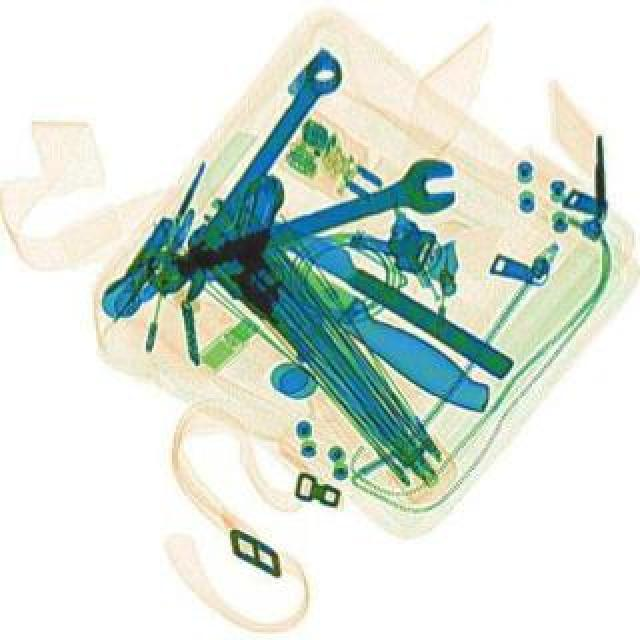gun: (178, 166, 386, 362)
knife: (190, 196, 498, 424), (210, 174, 518, 380)
scissors: (148, 46, 352, 302), (136, 152, 466, 302)
